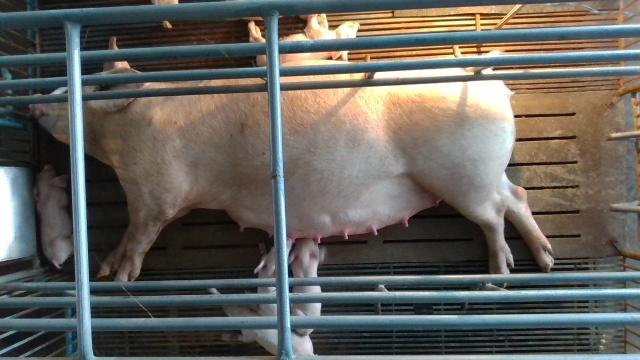piglet: (208, 288, 315, 356), (248, 13, 361, 63), (33, 162, 73, 270), (288, 238, 324, 337), (246, 237, 280, 316)
sow-sleep-lactate: (28, 35, 555, 286)
